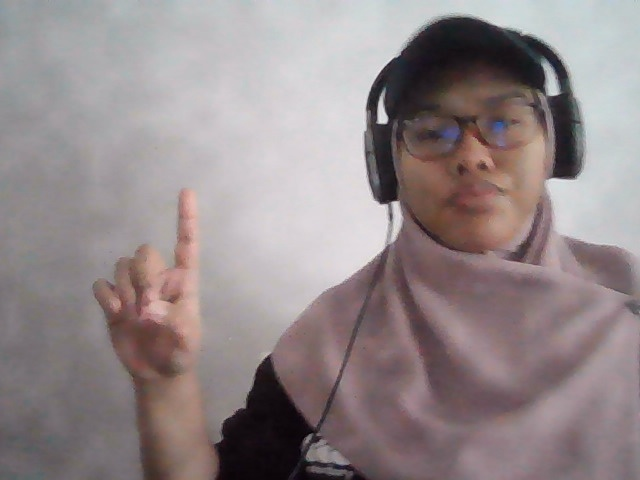d: (84, 184, 227, 391)
